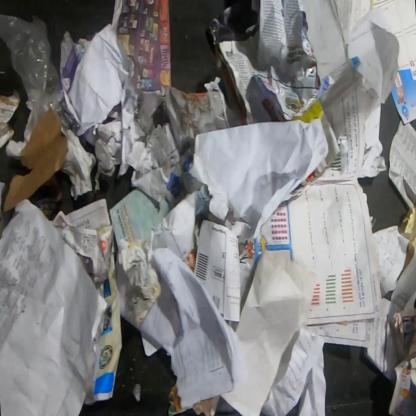cardboard: (3, 109, 68, 213), (192, 218, 241, 322), (390, 64, 415, 126)
soft_plastic: (0, 13, 66, 136), (60, 30, 74, 80)
